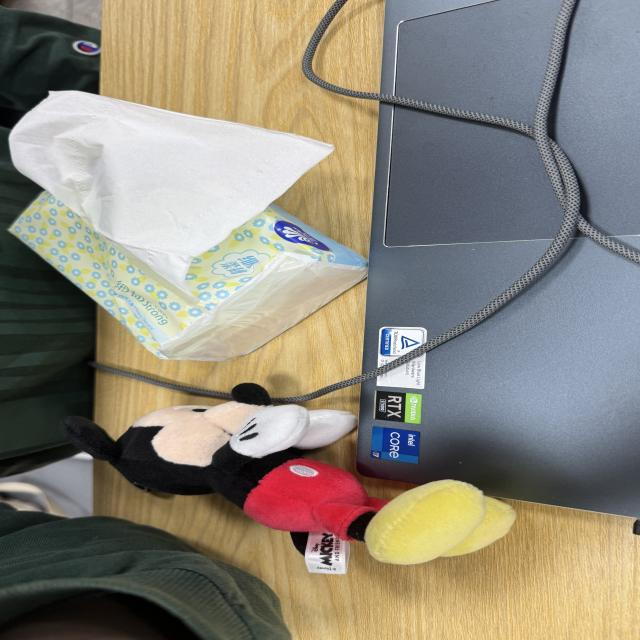mickey: (62, 383, 514, 563)
tissue: (10, 92, 333, 292), (10, 193, 366, 360)
